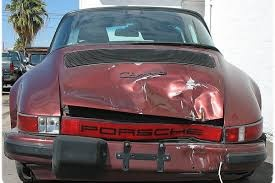Dent: (112, 69, 224, 118), (175, 143, 222, 175)
